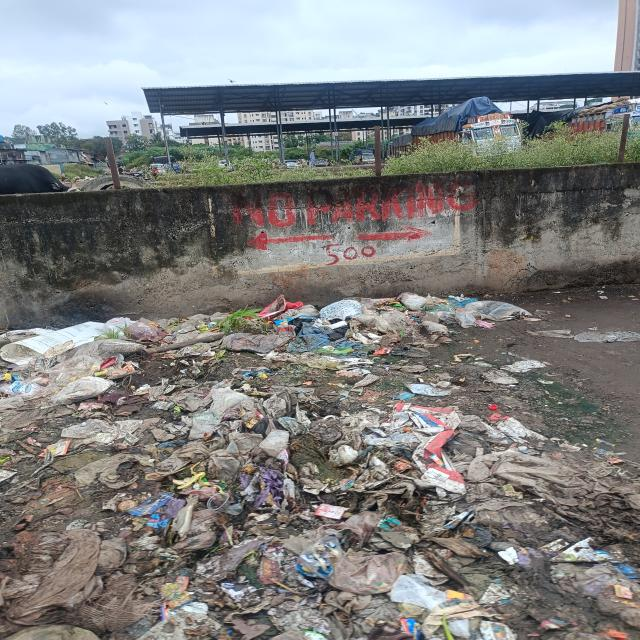garbage: (6, 297, 639, 640)
